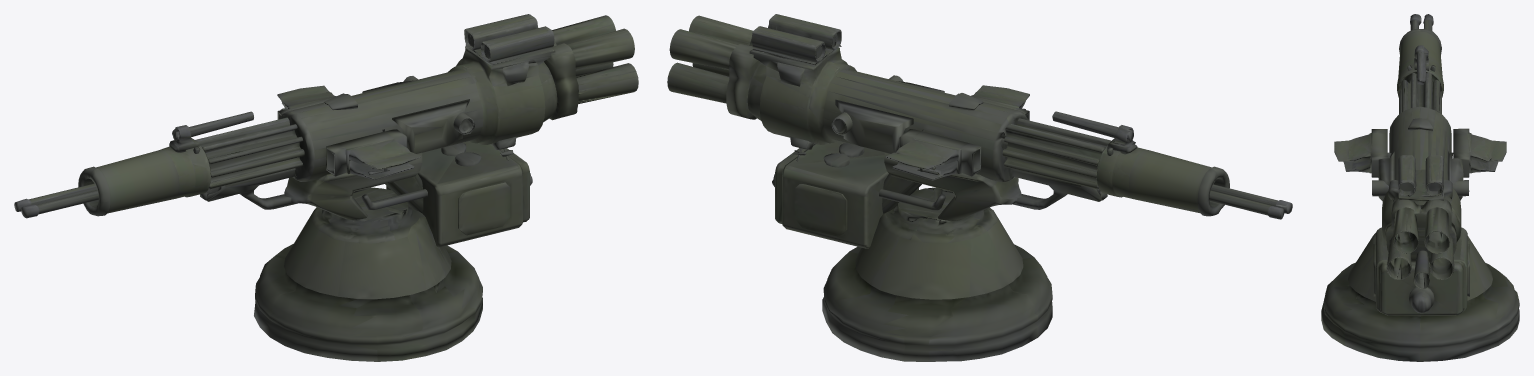
File: t_minigun_2.glb
3 views of the same model, side by side, from view 1: azimuth 30°, elevation 25°; view 2: azimuth 150°, elevation 25°; view 3: azimuth 270°, elevation 25° (orthographic). The views are drawn at different scales.
Bounding box in the file's own units: 0.957 × 0.3814 × 0.3247.
1 material, 1 textured.
